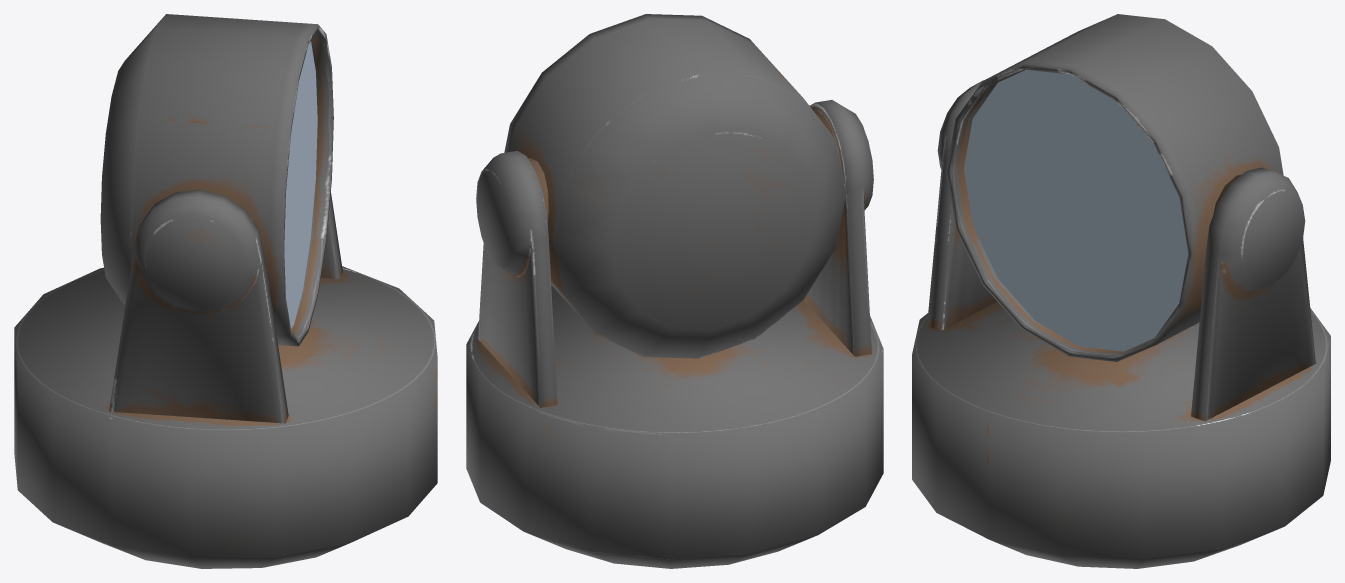
Rendered from LampadaFarol.glb.
3 renders of one model, left to right at view 1: azimuth 30°, elevation 25°; view 2: azimuth 150°, elevation 25°; view 3: azimuth 270°, elevation 25°, orthographic. The views are drawn at different scales.
Visible parts, largest first — view 1: LightBase; view 2: LightBase; view 3: LightBase.
Part boxes in pixels (x1,y1,x2,y2): LightBase: (14, 14, 437, 568); LightBase: (466, 14, 883, 568); LightBase: (912, 14, 1330, 568).
Size of the model in its own units: 1.64 by 2 by 1.64.
Materials: 2 (1 with a texture image).
